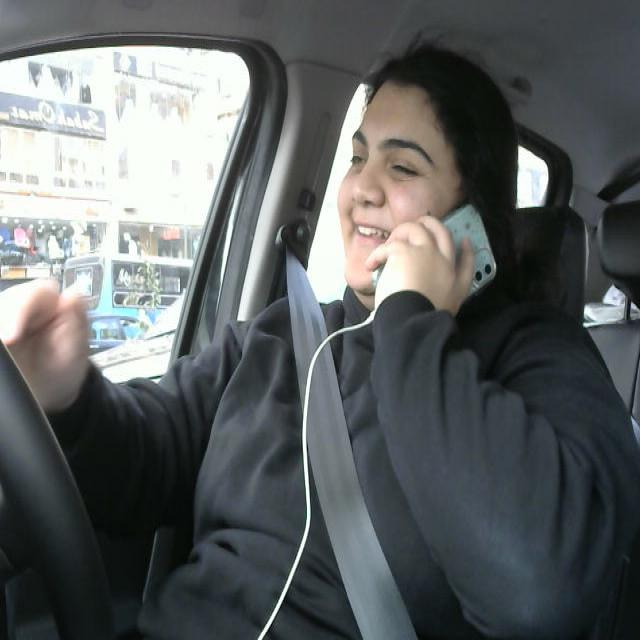mobile use: (398, 202, 496, 334)
